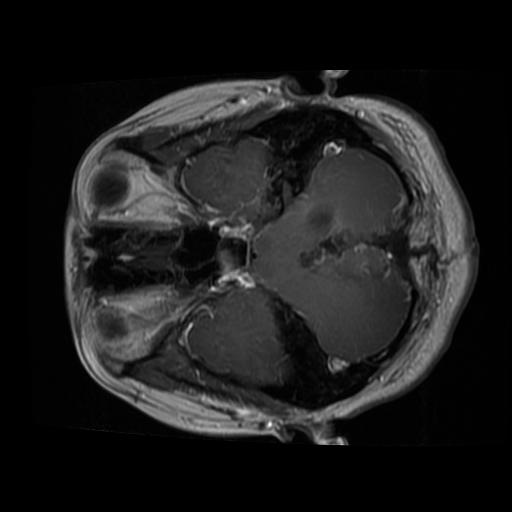glioma: (295, 201, 390, 286)
